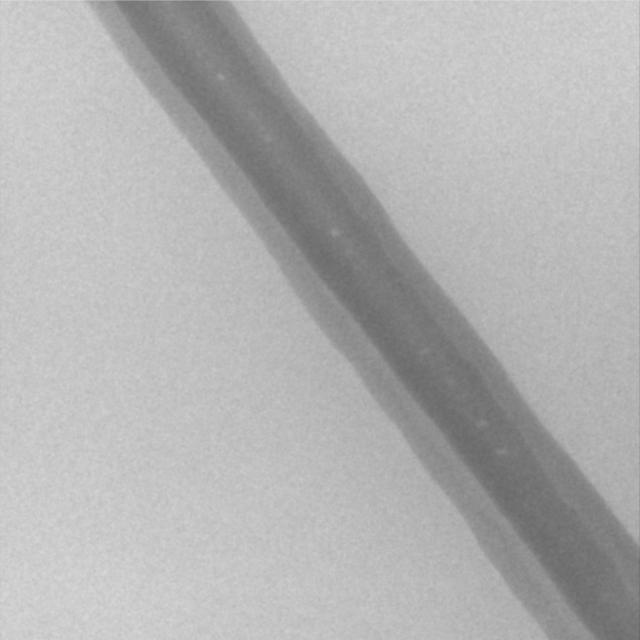air hole: (331, 227, 342, 239), (497, 445, 508, 456), (214, 71, 225, 82), (477, 420, 489, 429)
